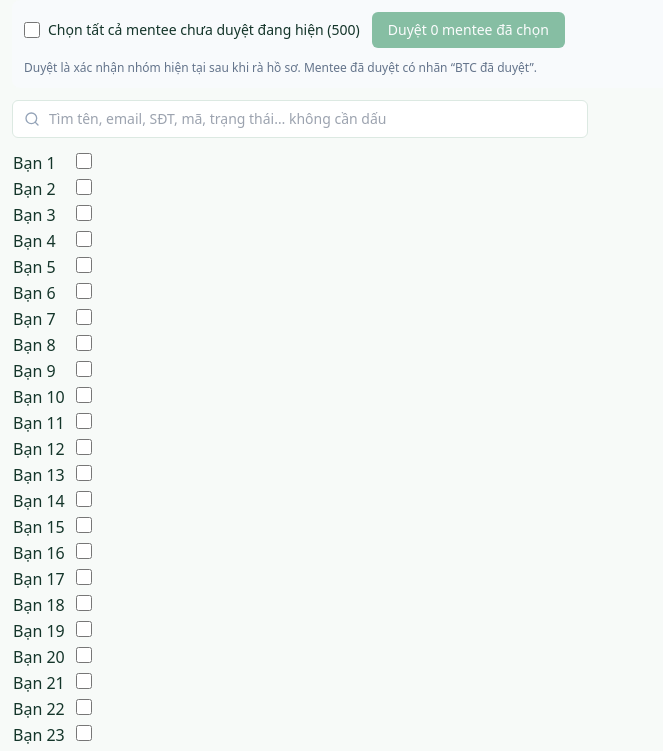
Scenario: trần 500 người mỗi lượt duyệt › đúng 500 người: nhãn như cũ, không có lời nhắc về trần, chọn được cả 500
This screenshot has width=663, height=751.
Expected: the text "Chọn tất cả mentee chưa duyệt đang hiện (500)" is shown, [24,20,360,40]
Click the checkbox labelled "Chọn tất cả mentee chưa duyệt đang hiện (500)": x=32, y=30 [24,22,40,38]
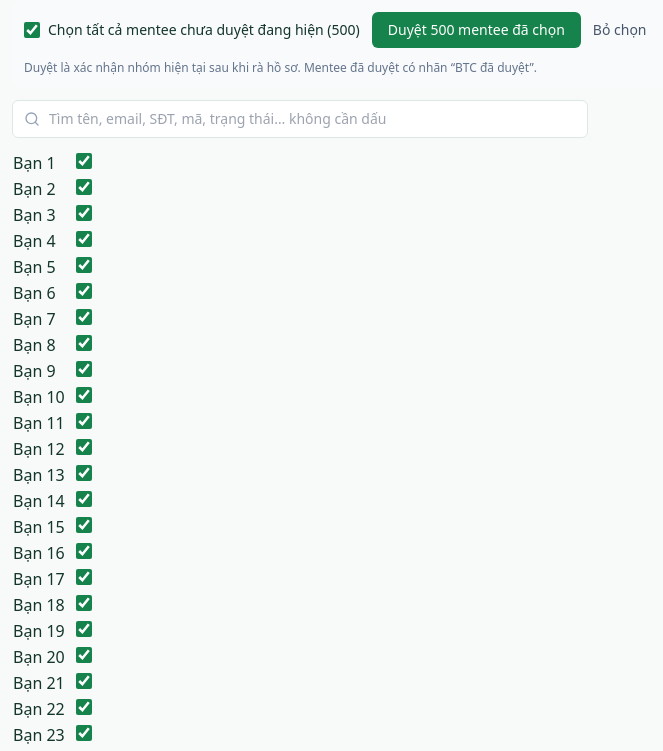
Expected: the button "Duyệt 500 mentee đã chọn" is shown, [372,12,581,48]
